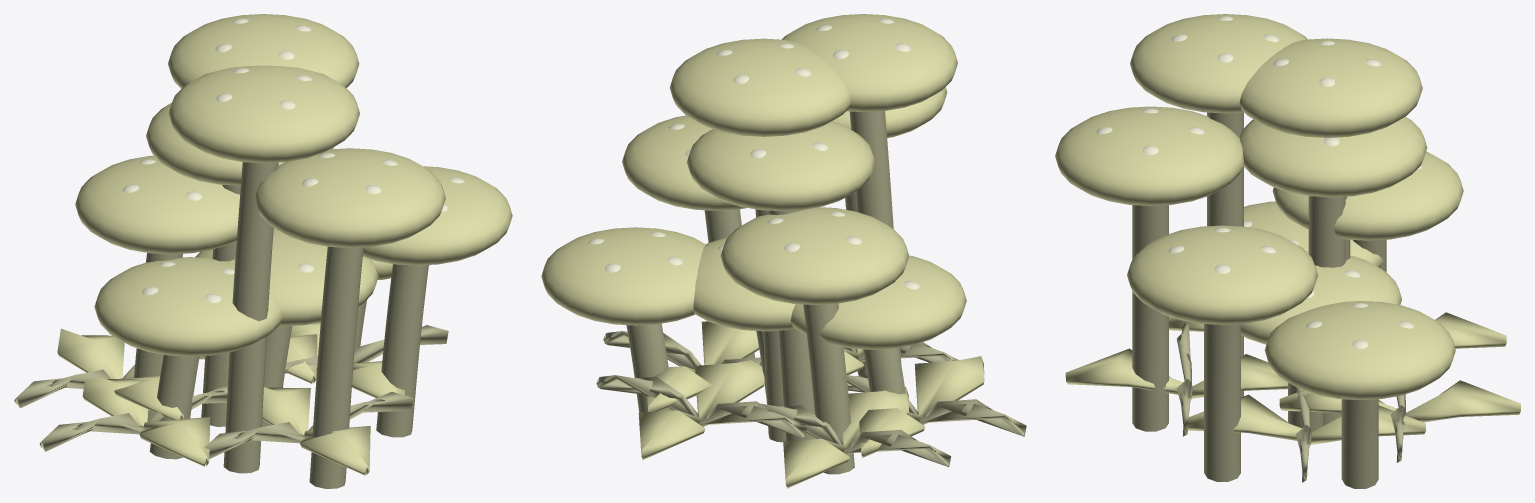
The model's file is bio_spore_fungus_20_near.glb.
3 views of the same model, side by side, from view 1: azimuth 30°, elevation 25°; view 2: azimuth 150°, elevation 25°; view 3: azimuth 270°, elevation 25° (orthographic).
Visible parts, largest first — view 1: Thick umbrella cap.007, Thick umbrella cap.002, Thick umbrella cap.004, Thick umbrella cap.001, Thick umbrella cap.003, Curved stipe.007, Curved stipe.002, Thick umbrella cap.005, Curved stipe.005, Thick umbrella cap, Low buttress leaf.017, Low buttress leaf.009 (+12 smaller); view 2: Thick umbrella cap.001, Thick umbrella cap.003, Thick umbrella cap.008, Thick umbrella cap.006, Thick umbrella cap.007, Thick umbrella cap.004, Thick umbrella cap.005, Low buttress leaf.013, Thick umbrella cap, Low buttress leaf.017, Curved stipe.001, Low buttress leaf.005 (+13 smaller); view 3: Thick umbrella cap.005, Thick umbrella cap.002, Thick umbrella cap.008, Thick umbrella cap.003, Thick umbrella cap.007, Thick umbrella cap.006, Thick umbrella cap.001, Curved stipe.002, Curved stipe.005, Thick umbrella cap, Low buttress leaf.013, Low buttress leaf.009 (+10 smaller).
Boxes of the visible parts, x1,y1,x2,y2 form: Thick umbrella cap.007: (168, 65, 359, 163); Thick umbrella cap.002: (254, 148, 445, 247); Thick umbrella cap.004: (94, 257, 282, 356); Thick umbrella cap.001: (75, 155, 239, 254); Thick umbrella cap.003: (168, 14, 359, 88); Curved stipe.007: (223, 162, 278, 473); Curved stipe.002: (309, 246, 363, 488); Thick umbrella cap.005: (362, 166, 512, 265); Curved stipe.005: (376, 264, 428, 437); Thick umbrella cap: (195, 228, 378, 326); Low buttress leaf.017: (82, 372, 210, 466); Low buttress leaf.009: (262, 387, 370, 475); Thick umbrella cap.001: (720, 207, 908, 304); Thick umbrella cap.003: (669, 38, 850, 136); Thick umbrella cap.008: (541, 227, 705, 325); Thick umbrella cap.006: (687, 121, 875, 211); Thick umbrella cap.007: (782, 14, 957, 112); Thick umbrella cap.004: (790, 255, 966, 349); Thick umbrella cap.005: (622, 115, 746, 210); Low buttress leaf.013: (638, 360, 764, 459); Thick umbrella cap: (693, 237, 795, 331); Low buttress leaf.017: (859, 356, 984, 457); Curved stipe.001: (803, 303, 854, 474); Low buttress leaf.005: (783, 386, 908, 488); Thick umbrella cap.005: (1127, 225, 1317, 324); Thick umbrella cap.002: (1055, 106, 1243, 205); Thick umbrella cap.008: (1264, 301, 1455, 400); Thick umbrella cap.003: (1239, 38, 1422, 137); Thick umbrella cap.007: (1130, 14, 1307, 113); Thick umbrella cap.006: (1239, 116, 1427, 197); Thick umbrella cap.001: (1272, 151, 1463, 240); Curved stipe.002: (1132, 205, 1168, 431); Curved stipe.005: (1204, 324, 1240, 481); Thick umbrella cap: (1241, 251, 1401, 344); Low buttress leaf.013: (1279, 380, 1520, 422); Low buttress leaf.009: (1065, 348, 1287, 399).
Bounding box in the file's own units: 2.34 × 1.92 × 2.14.
